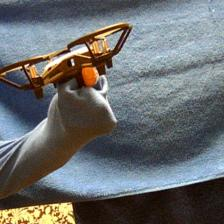drone: (1, 21, 132, 102)
